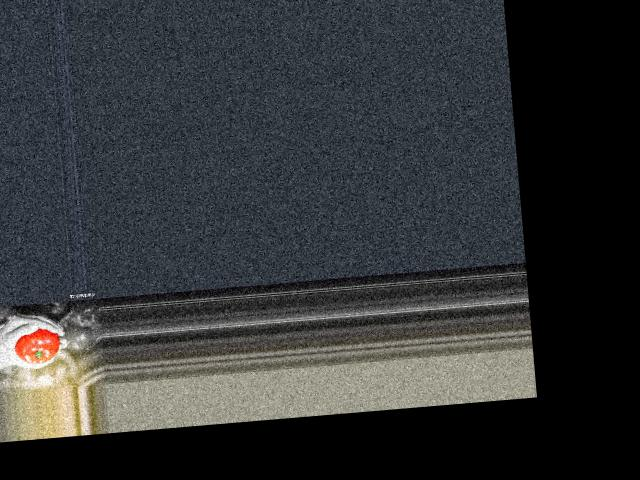tomato: (12, 327, 60, 365)
